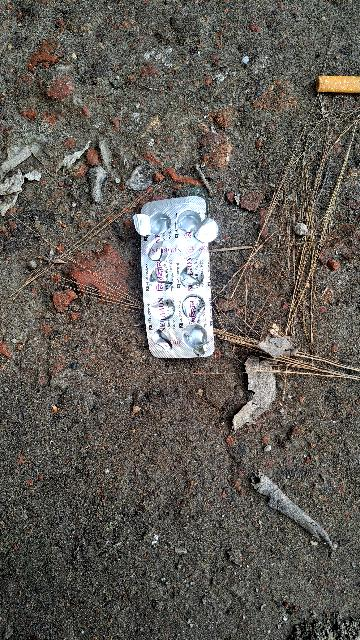medicine: (128, 193, 222, 363)
